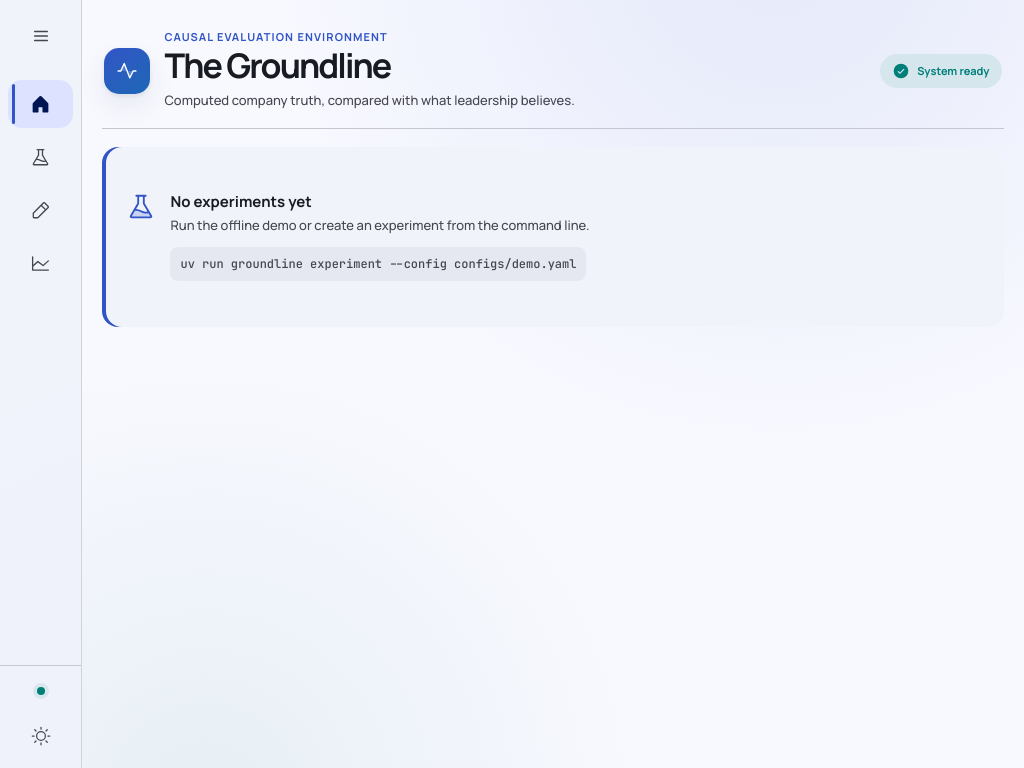
App run identity and states › renders an explicit empty state
Click the button named "Run Viewer" at {"x": 40, "y": 263}, box [8, 239, 73, 287]
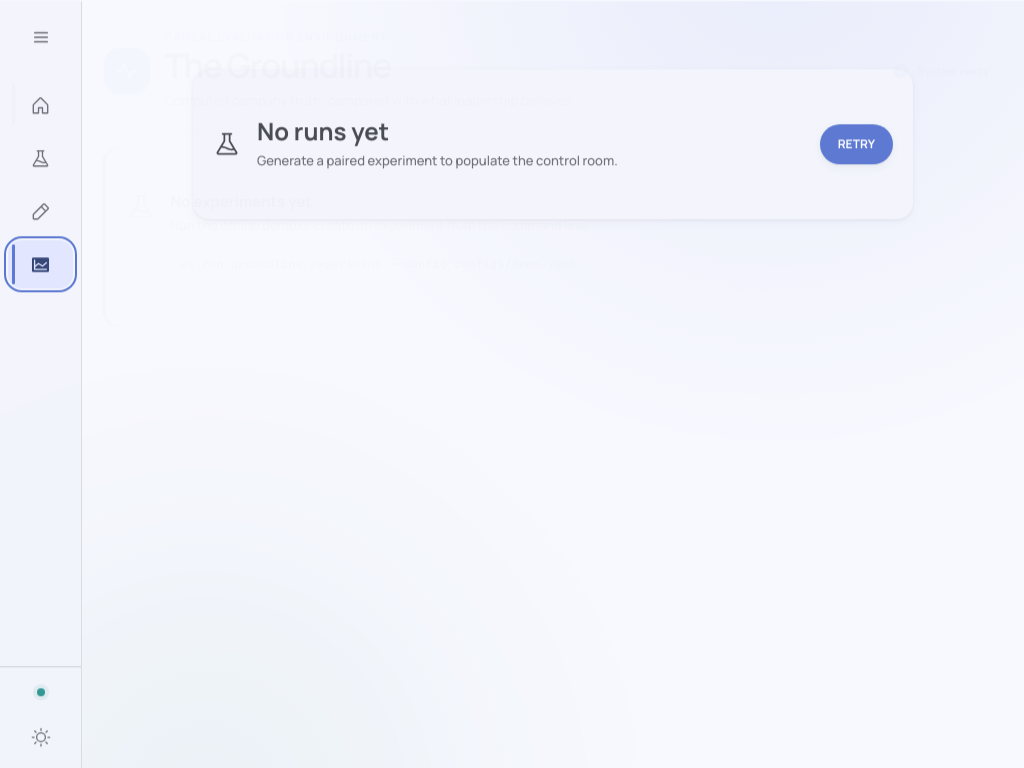
Result: the heading "No runs yet" is shown at [257, 113, 389, 146]
